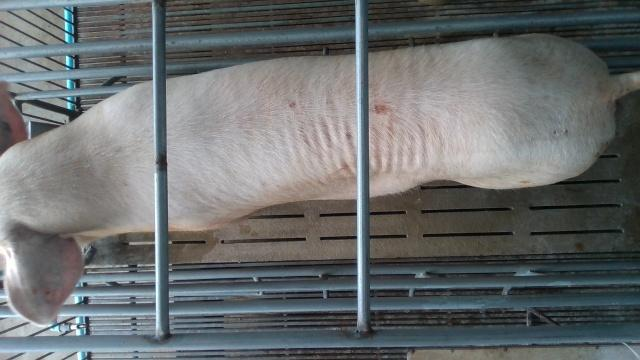sow-stand-feed: (0, 32, 640, 328)
